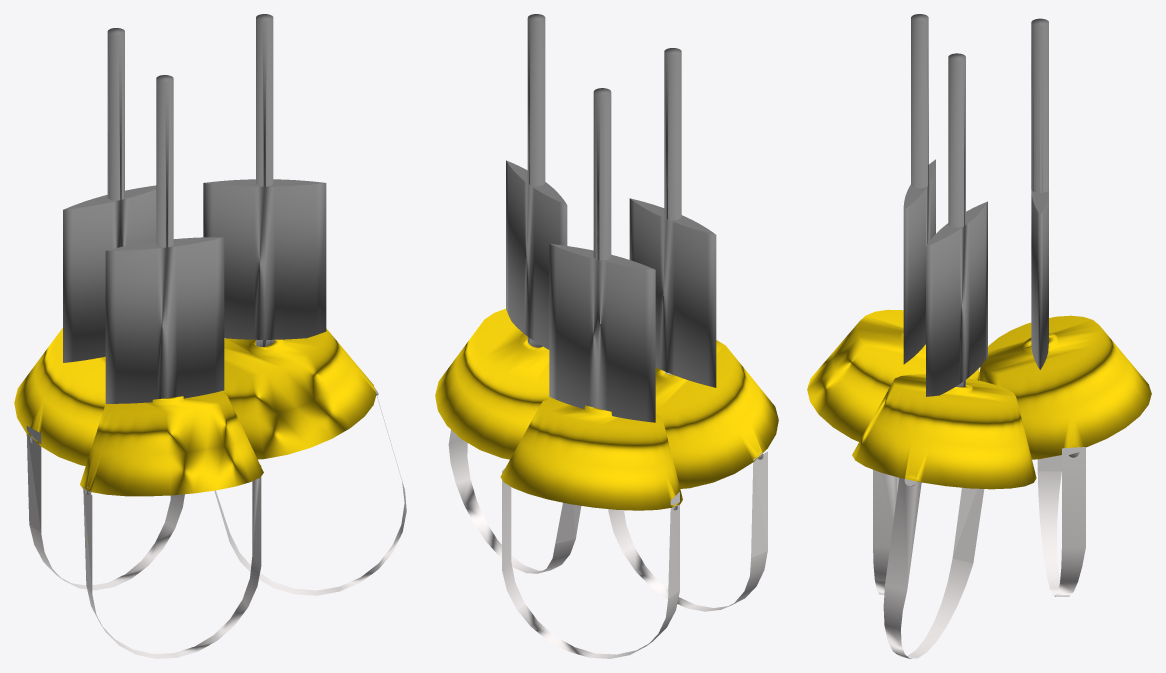
The model's file is mask.fbx.
3 views of the same model, side by side, from view 1: azimuth 30°, elevation 25°; view 2: azimuth 150°, elevation 25°; view 3: azimuth 270°, elevation 25° (orthographic).
Visible parts, largest first — view 1: Sketchup.002, Sketchup.003, Sketchup.001, Sketchup; view 2: Sketchup.001, Sketchup.002, Sketchup.003, Sketchup; view 3: Sketchup.003, Sketchup.001, Sketchup.002, Sketchup.
Part boxes in pixels (x1=…): Sketchup.002: x1=80, y1=75, x2=263, y2=658; Sketchup.003: x1=203, y1=14, x2=406, y2=595; Sketchup.001: x1=14, y1=28, x2=156, y2=465; Sketchup: x1=26, y1=426, x2=184, y2=590; Sketchup.001: x1=500, y1=88, x2=682, y2=510; Sketchup.002: x1=608, y1=48, x2=778, y2=611; Sketchup.003: x1=435, y1=14, x2=581, y2=573; Sketchup: x1=502, y1=468, x2=679, y2=658; Sketchup.003: x1=852, y1=53, x2=1036, y2=658; Sketchup.001: x1=979, y1=18, x2=1151, y2=459; Sketchup.002: x1=807, y1=14, x2=979, y2=594; Sketchup: x1=1037, y1=447, x2=1085, y2=596.
Size of the model in its own units: 26.32 by 46.57 by 24.68.
